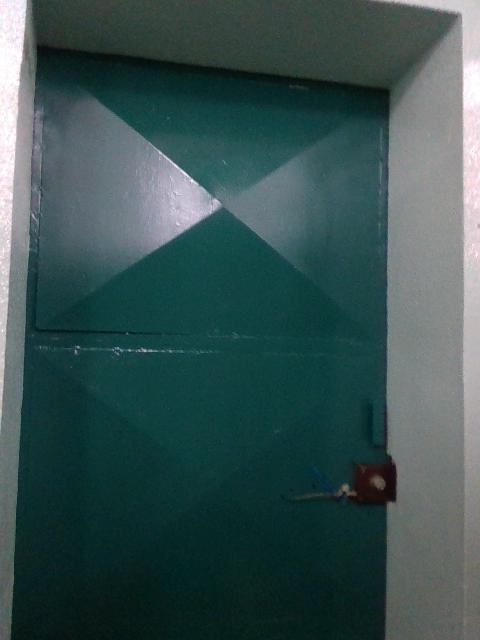door: (13, 45, 398, 640)
